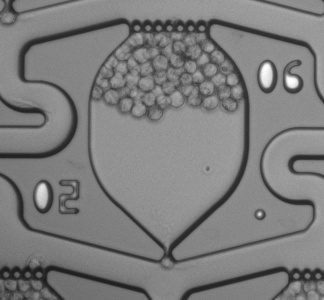AptNum: (250, 56, 312, 101)
Marker: (245, 202, 275, 229)
StNum: (27, 174, 89, 224)
Trap: (140, 244, 184, 286)
